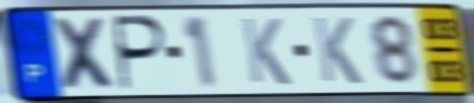1: (181, 14, 219, 91)
8: (366, 12, 422, 87)
K: (311, 14, 365, 87), (239, 15, 293, 88)
P: (113, 13, 171, 94)
X: (49, 15, 122, 92)
